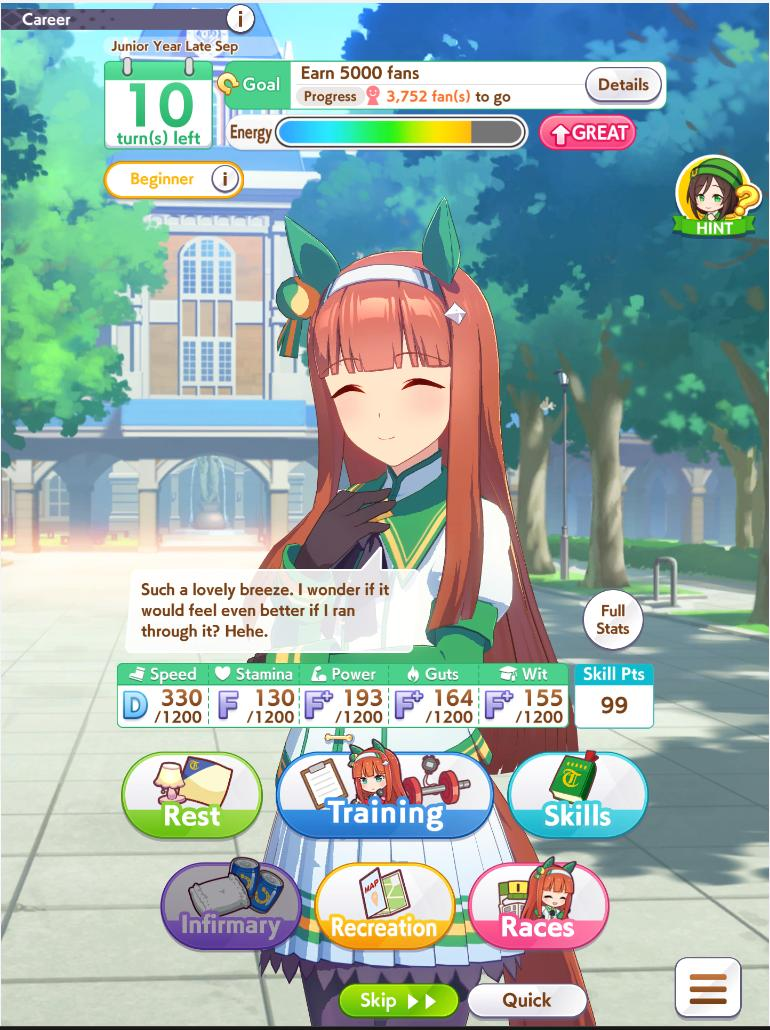Energy: (225, 114, 530, 155)
Race: (471, 858, 610, 957)
cur_stats: (108, 659, 575, 736)
goal: (217, 59, 674, 115)
skill_pts: (571, 659, 659, 733)
training: (274, 748, 494, 851)
turns: (98, 56, 217, 153)
